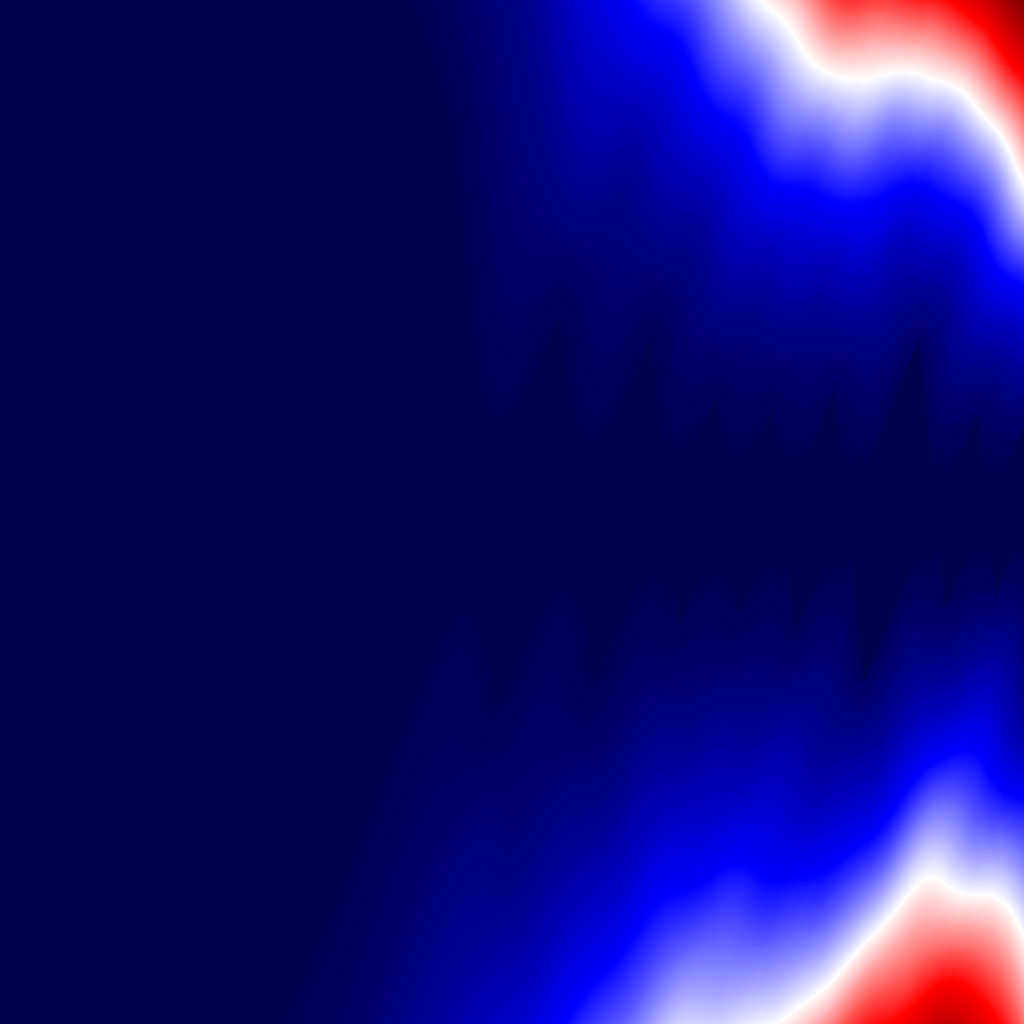diamond: (294, 148, 481, 876), (481, 318, 580, 706), (581, 338, 670, 686), (850, 338, 939, 686), (786, 388, 849, 636), (670, 393, 731, 631), (732, 407, 786, 617), (939, 413, 990, 611)
